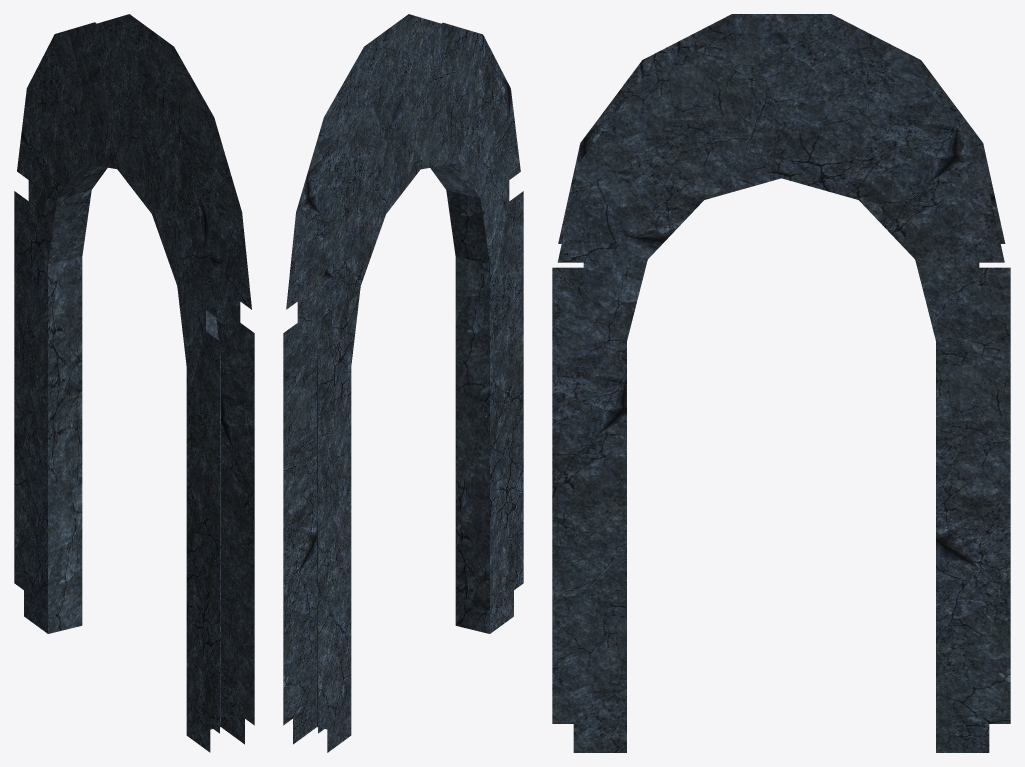
The model's file is StoneWallDoorway.FBX.
3 views of the same model, side by side, from view 1: azimuth 30°, elevation 25°; view 2: azimuth 150°, elevation 25°; view 3: azimuth 270°, elevation 25° (orthographic). The views are drawn at different scales.
Visible parts, largest first — view 1: StoneWallDoorway; view 2: StoneWallDoorway; view 3: StoneWallDoorway.
Part boxes in pixels (bbox=[...]): StoneWallDoorway: bbox=[14, 14, 254, 752]; StoneWallDoorway: bbox=[283, 14, 523, 752]; StoneWallDoorway: bbox=[552, 14, 1010, 752].
Bounding box in the file's own units: 2.87 × 51.51 × 29.72.
Materials: 1 (1 with a texture image).
